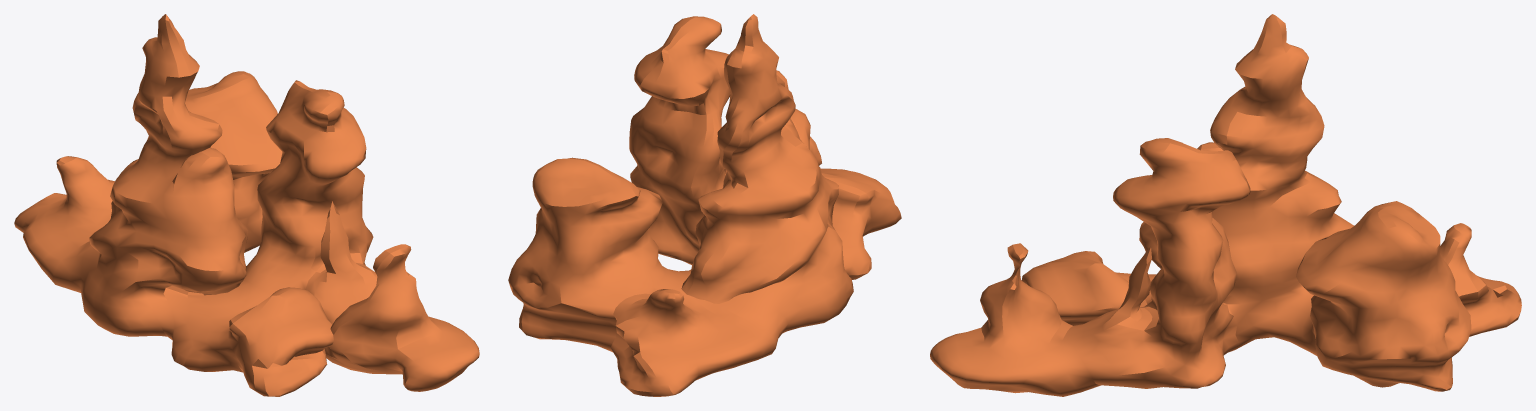
The model's file is fixed rocks .fbx.
The picture shows the model from 3 angles, left to right: view 1: azimuth 30°, elevation 25°; view 2: azimuth 150°, elevation 25°; view 3: azimuth 270°, elevation 25°; orthographic projection. The views are drawn at different scales.
Visible parts, largest first — view 1: Retopo_Cube.003; view 2: Retopo_Cube.003; view 3: Retopo_Cube.003.
Boxes of the visible parts, bbox=[...] form: Retopo_Cube.003: bbox=[14, 14, 479, 396]; Retopo_Cube.003: bbox=[508, 14, 901, 396]; Retopo_Cube.003: bbox=[930, 14, 1521, 396].
Size of the model in its own units: 1086 by 1253 by 2132.
